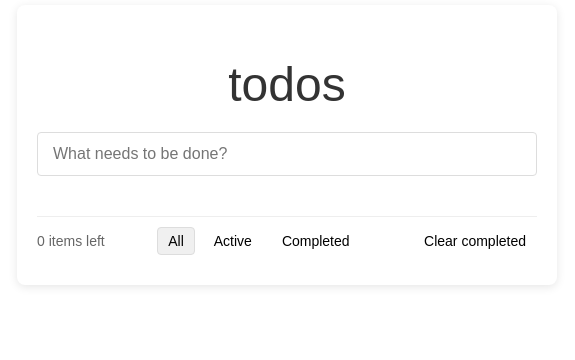
it: TodoApp › adds a new todo
Type "Test new todo" into the field with placeholder "What needs to be done?". click: (287,154)
box: 37,132 -> 537,176
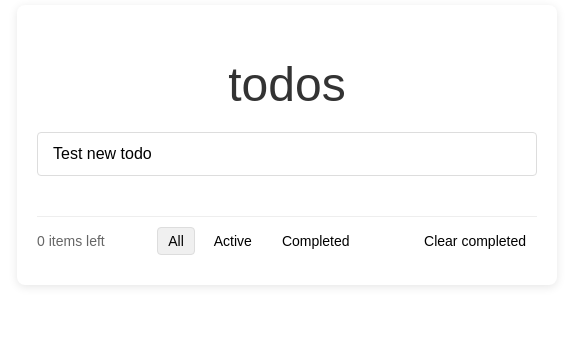
Submit the form from the field with placeholder "What needs to be done?", box 37,132 -> 537,176
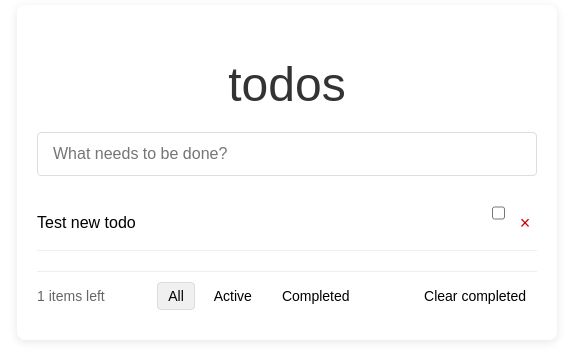
Now the text "Test new todo" is shown, box 37,214 -> 136,231
Now the field with placeholder "What needs to be done?" is empty, box 37,132 -> 537,176
